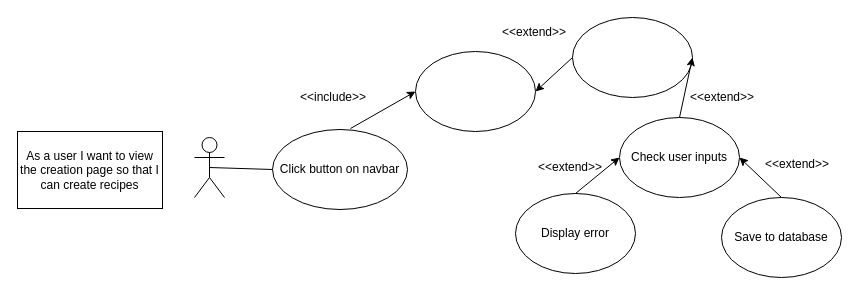
The diagram is 859 pixels wide and 295 high, and some of its shapes have lost their labels. The centre of each missing label's shape, as x and y in pixels:
"Actor" goes at (209,167).
"Click create button" goes at (632,57).
"Display recipe creation section" goes at (475,91).
